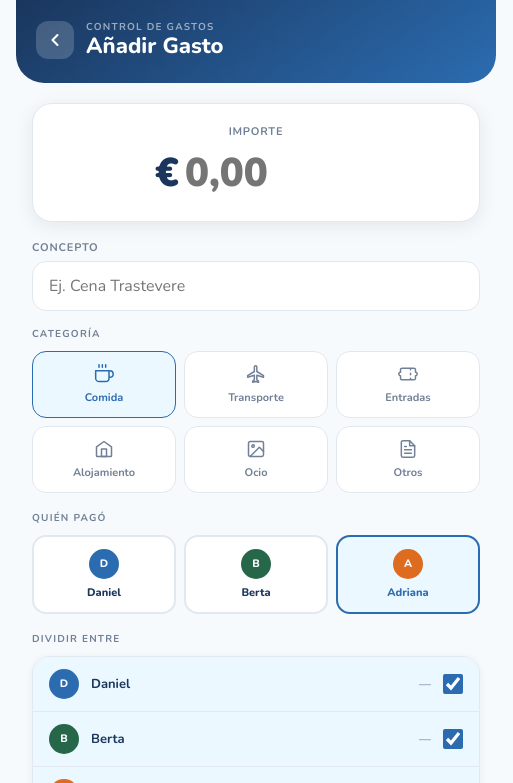
Test: AnadirGasto › no envía el gasto con importe 0 y explica el motivo
Expected: the element named "Quién pagó" is shown, x1=32 y1=535 x2=480 y2=614
In the field labelled "Importe": coordinates (270, 173) x1=183 y1=145 x2=357 y2=201, type "0"
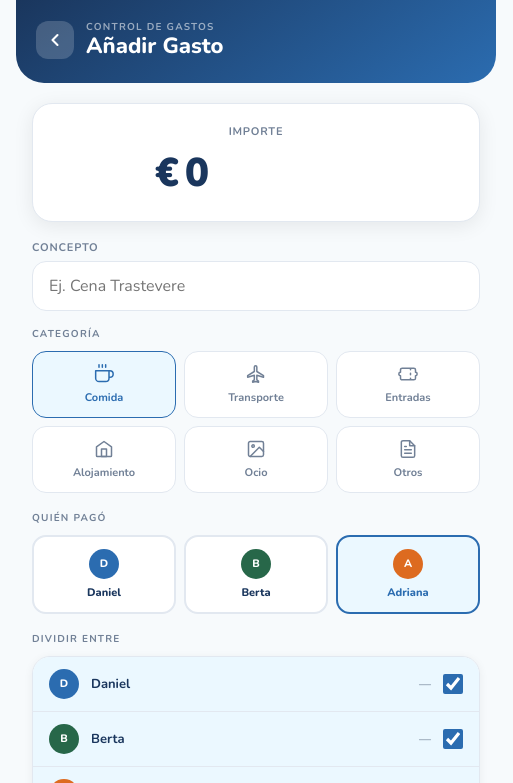
In the field labelled "Concepto": coordinates (256, 286) x1=32 y1=261 x2=480 y2=311, type "Cena"
(page scrolled)
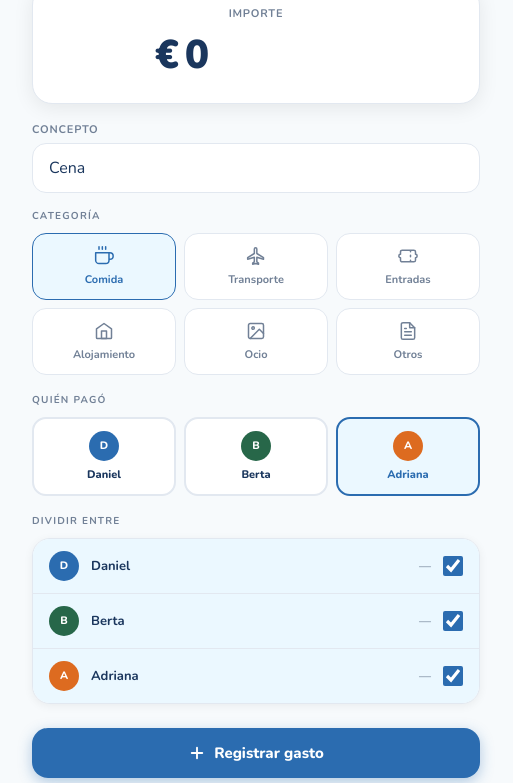
Click the button "Registrar gasto": coordinates (256, 753) x1=32 y1=728 x2=480 y2=778
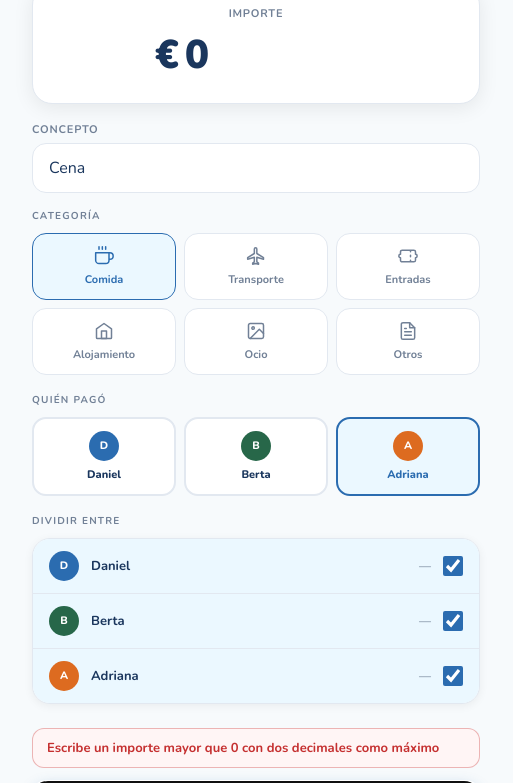
Expected: the message reads "Escribe un importe mayor que 0 con dos decimales como máximo", x1=47 y1=739 x2=439 y2=757
